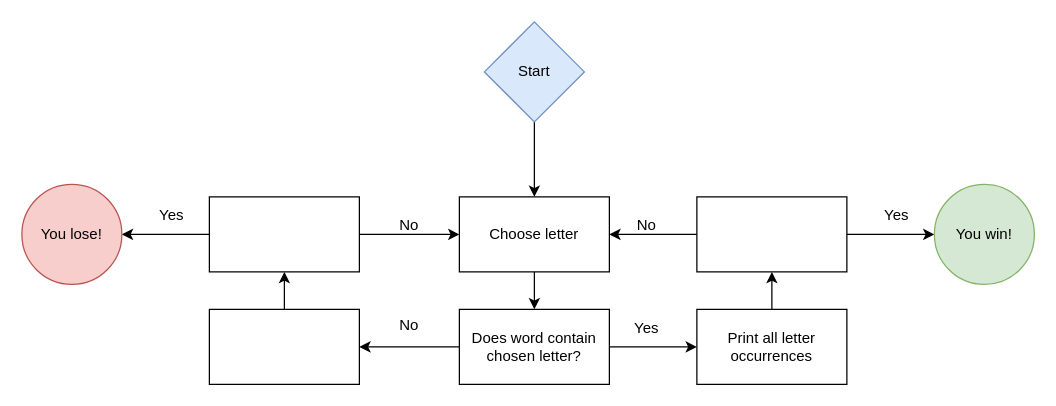
The diagram is 1056 pixels wide and 406 high, and some of its shapes have lost their labels. Here are the shapes that lost their labels. From the top down, the centre of each, then its label:
the point at 283,234: Hangman drawn?
the point at 771,234: Word printed?
the point at 283,346: Draw hangman
